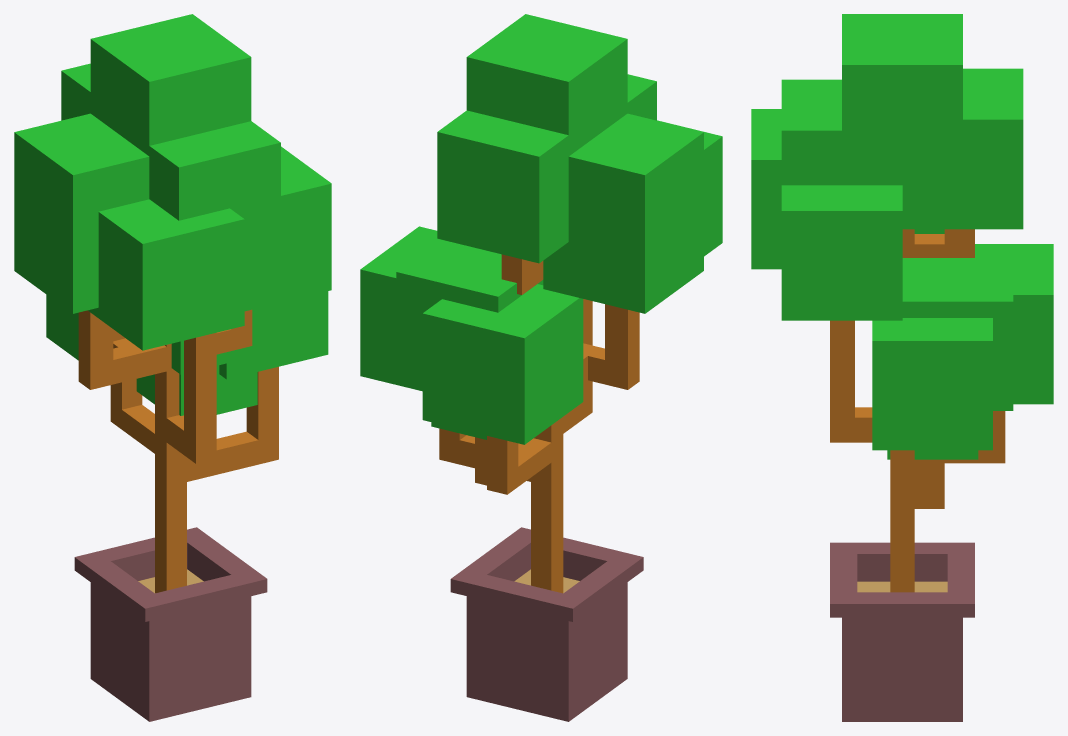
Rendered from plant1.fbx.
3 renders of one model, left to right at view 1: azimuth 30°, elevation 25°; view 2: azimuth 150°, elevation 25°; view 3: azimuth 270°, elevation 25°, orthographic. The views are drawn at different scales.
Visible parts, largest first — view 1: plant1, vase; view 2: plant1, vase; view 3: plant1, vase.
Boxes of the visible parts, bbox=[...] form: plant1: bbox=[14, 14, 331, 593]; vase: bbox=[74, 527, 267, 721]; plant1: bbox=[360, 14, 722, 593]; vase: bbox=[450, 527, 643, 721]; plant1: bbox=[751, 14, 1053, 592]; vase: bbox=[830, 542, 974, 721].
Size of the model in its own units: 159 by 360 by 150.
